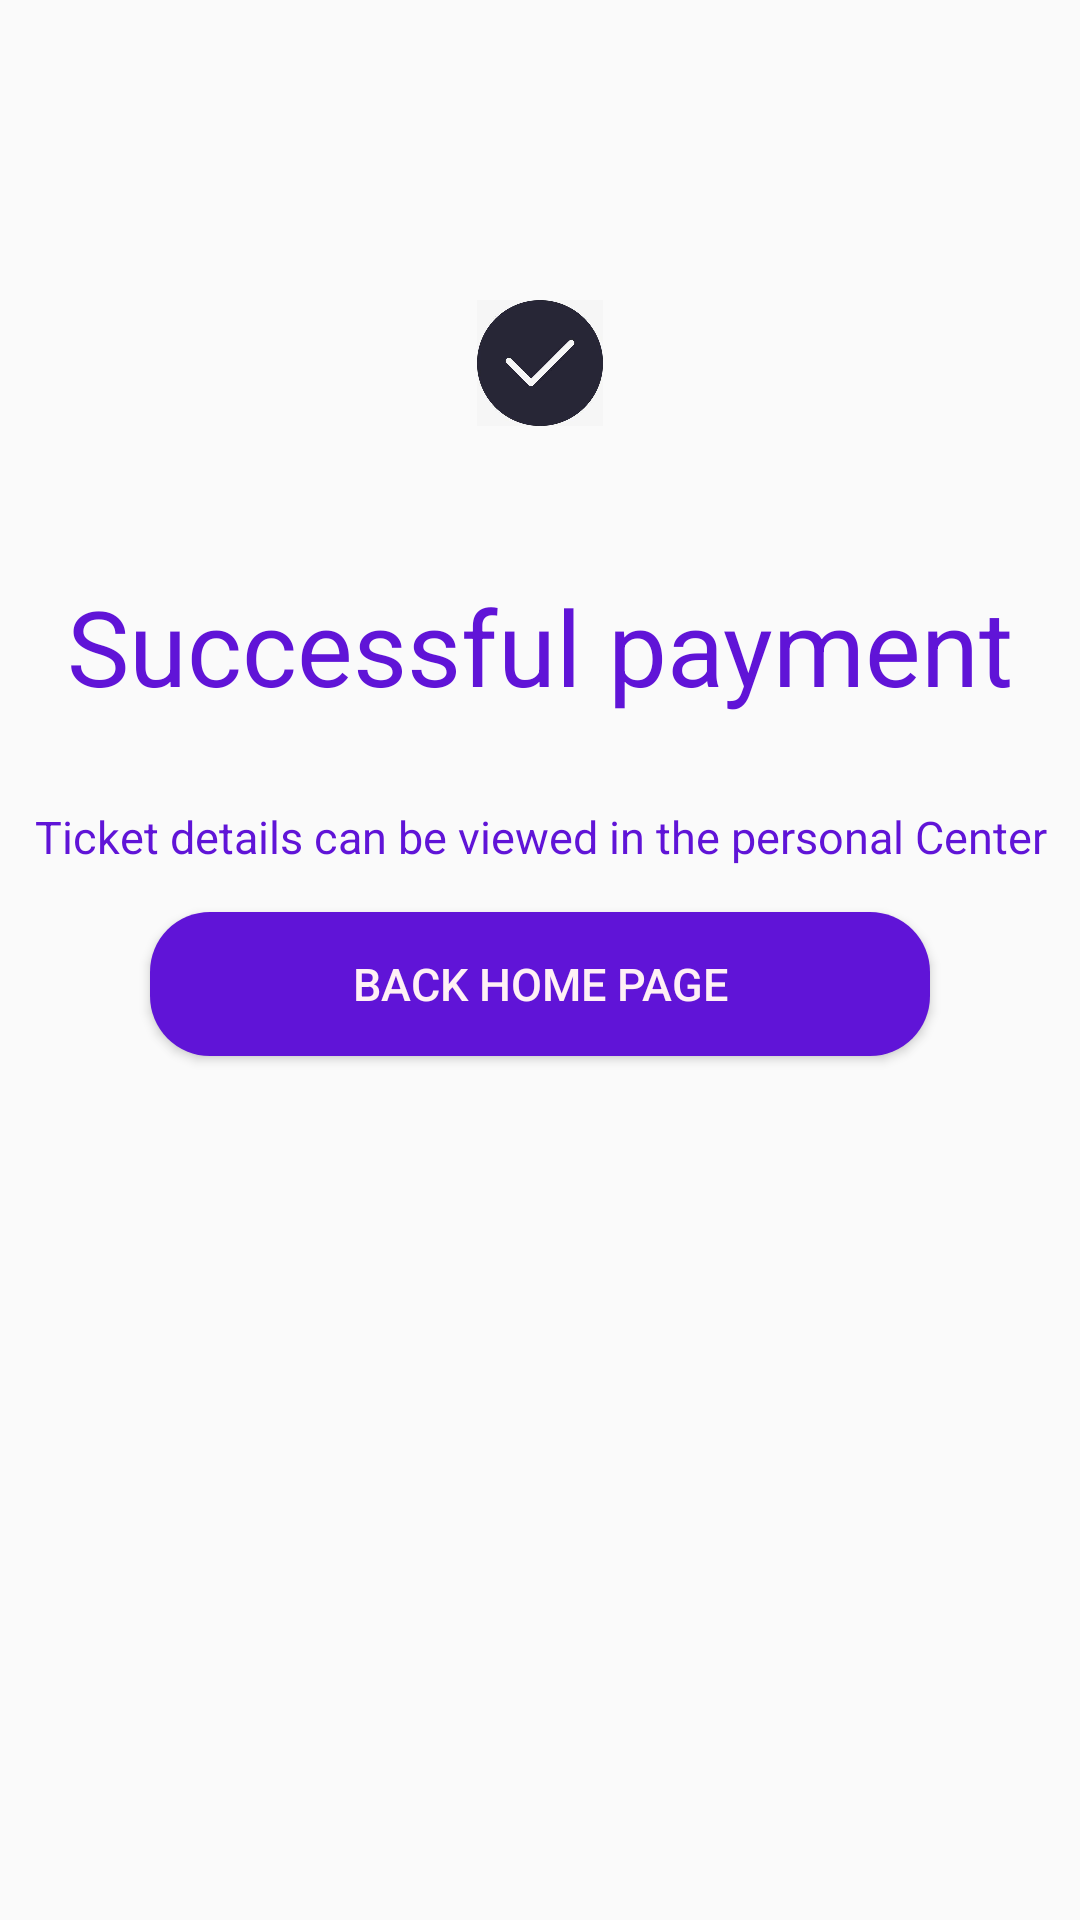

Icons on this 1080 x 1920 Android screen, each with its box as {"left": x1, "top": y1, "right": x2, "bottom": y2}:
payfinish: {"left": 477, "top": 300, "right": 603, "bottom": 426}
